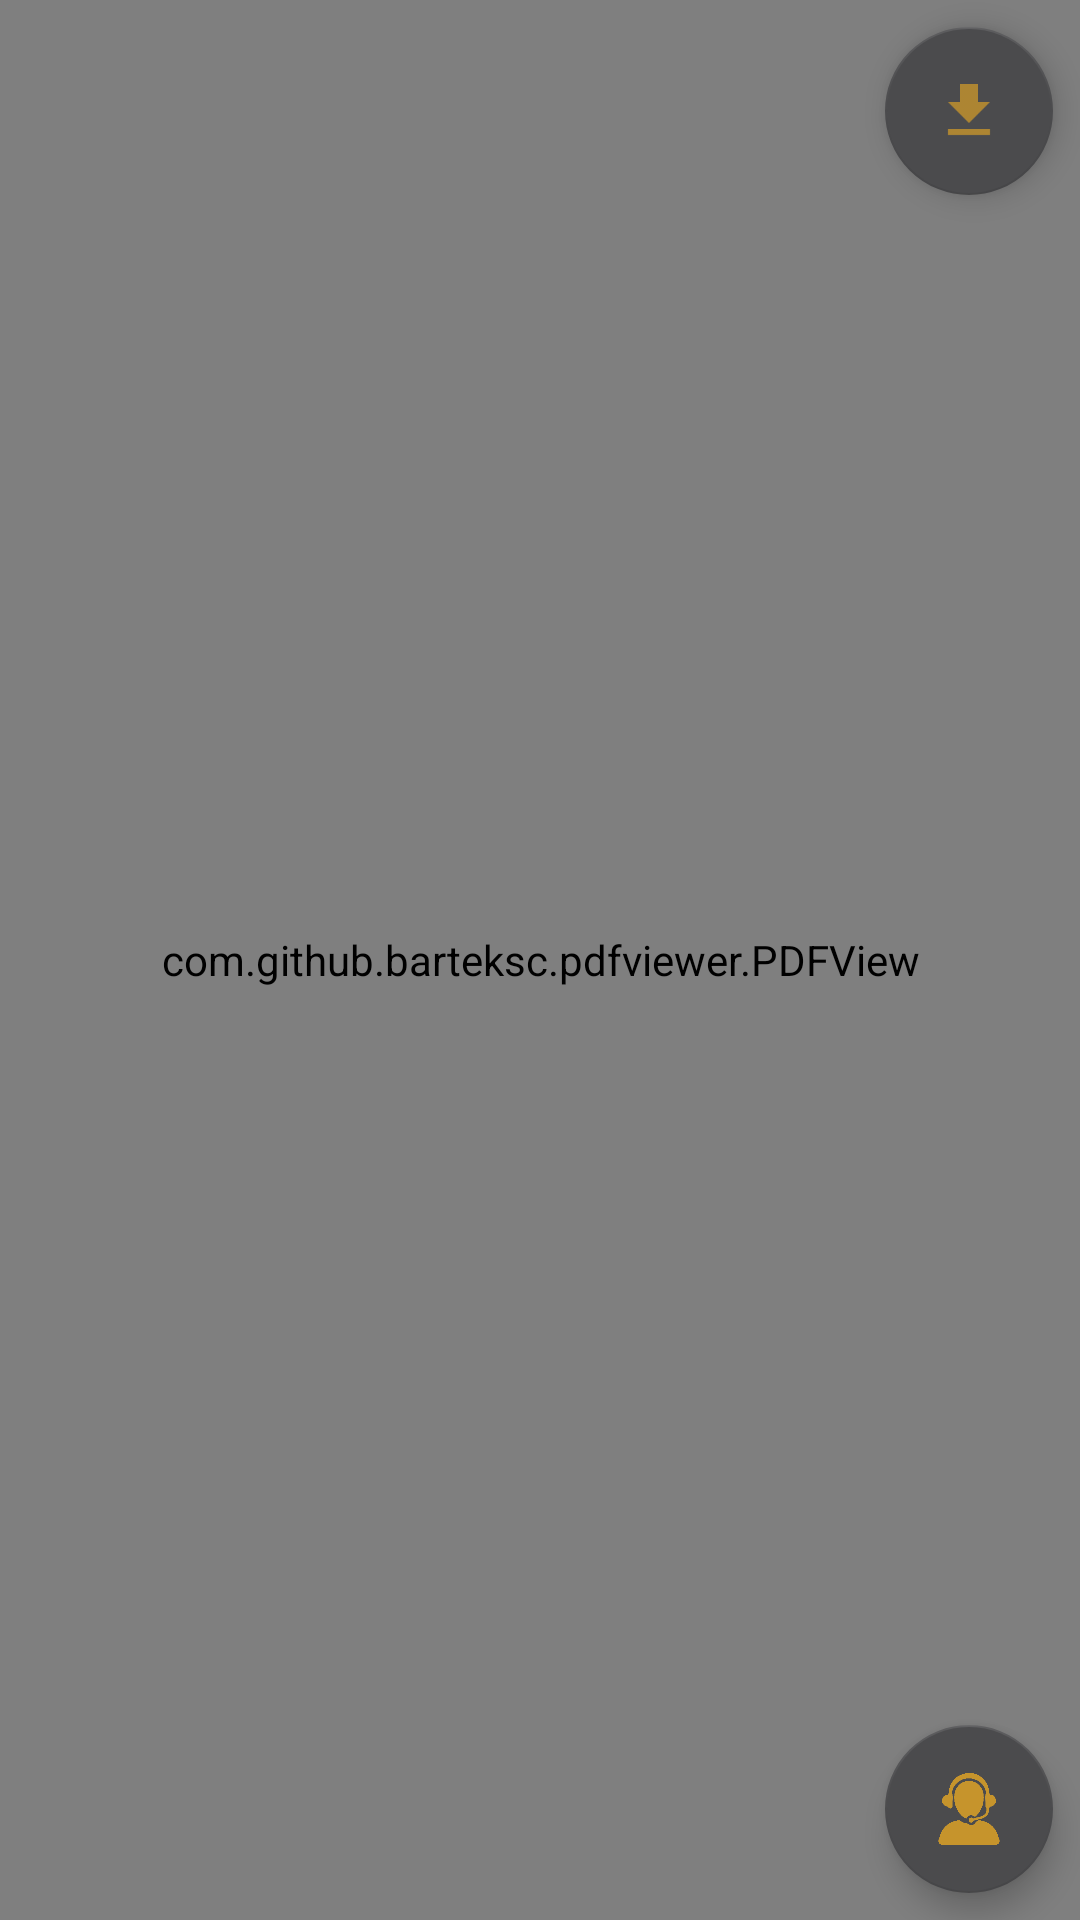

Screen size 1080 × 1920. Icon name, then its box in pixels as (x1, y1, x2, y2):
download: (885, 28, 1053, 195)
techsuppo: (885, 1726, 1053, 1893)
